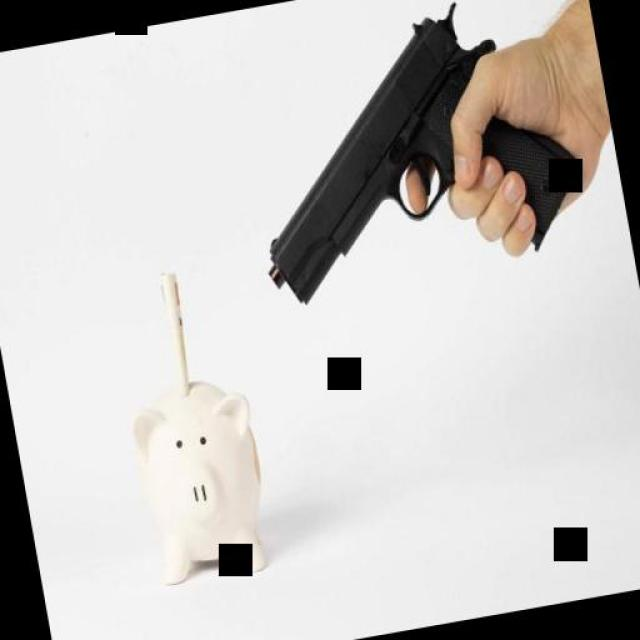gun: (221, 0, 595, 315)
